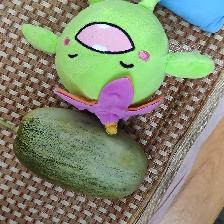gua: (27, 115, 143, 189)
